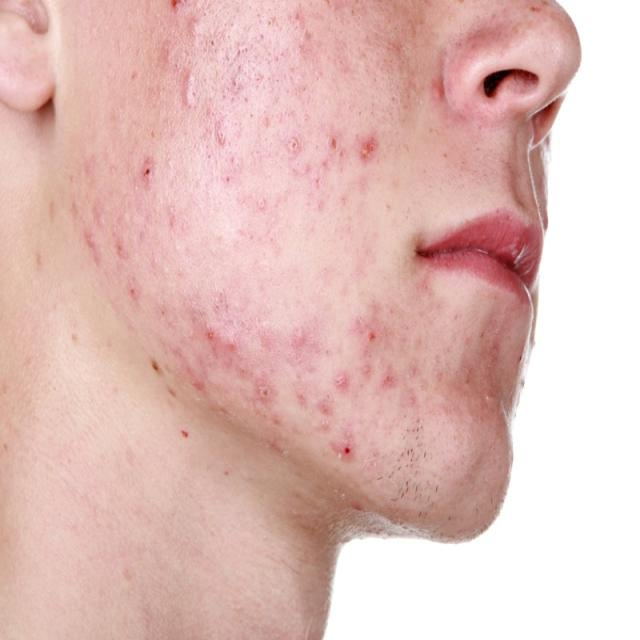acne: (51, 0, 423, 558)
